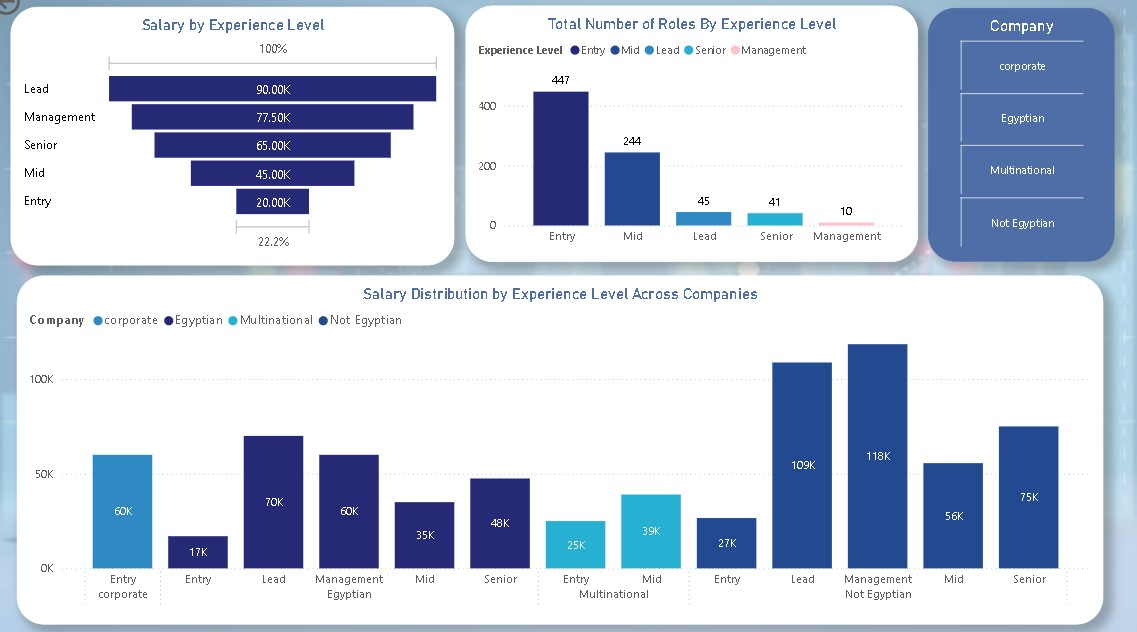

This screenshot's page, from the dashboard's own definition file:
{"tool":"powerbi","page":{"name":"dash4","canvas":[1280,720],"ordinal":3},"visuals":[{"type":"funnel","title":"Salary by Experience Level","fields":{"Y":["Median(Salary_clean.salary)"],"Category":["Salary_clean.Experience Level"]},"box":[24.7,26.1,487.1,284],"z":0},{"type":"columnChart","title":"Total Number of Roles By Experience Level","fields":{"Category":["Salary_clean.Experience Level"],"Series":["Salary_clean.Experience Level"],"Y":["CountNonNull(Salary_clean.Experience Level)"]},"box":[524.2,24.7,496.7,281.3],"z":1000},{"type":"slicer","title":"Company","fields":{"Values":["Salary_clean.Company"]},"box":[1031.9,27.4,204.5,278.6],"z":2000},{"type":"actionButton","box":[0,0,100,40],"z":3000},{"type":"columnChart","title":"Salary Distribution by Experience Level Across Companies","fields":{"Category":["Salary_clean.Company","Salary_clean.Experience Level"],"Series":["Salary_clean.Company"],"Y":["Median(Salary_clean.salary)"]},"box":[31.6,321.1,1192.5,382.8],"z":4000}]}

Visuals, with their boxes in screenshot pixels (x1, y1, x2, y2), scaled from the page's 1280x720 canvas onto the 1137x632 screenshot:
"Salary by Experience Level" funnel: 22 23 455 272
"Total Number of Roles By Experience Level" columnChart: 466 22 907 269
"Company" slicer: 917 24 1098 269
actionButton: 0 0 89 35
"Salary Distribution by Experience Level Across Companies" columnChart: 28 282 1087 618
